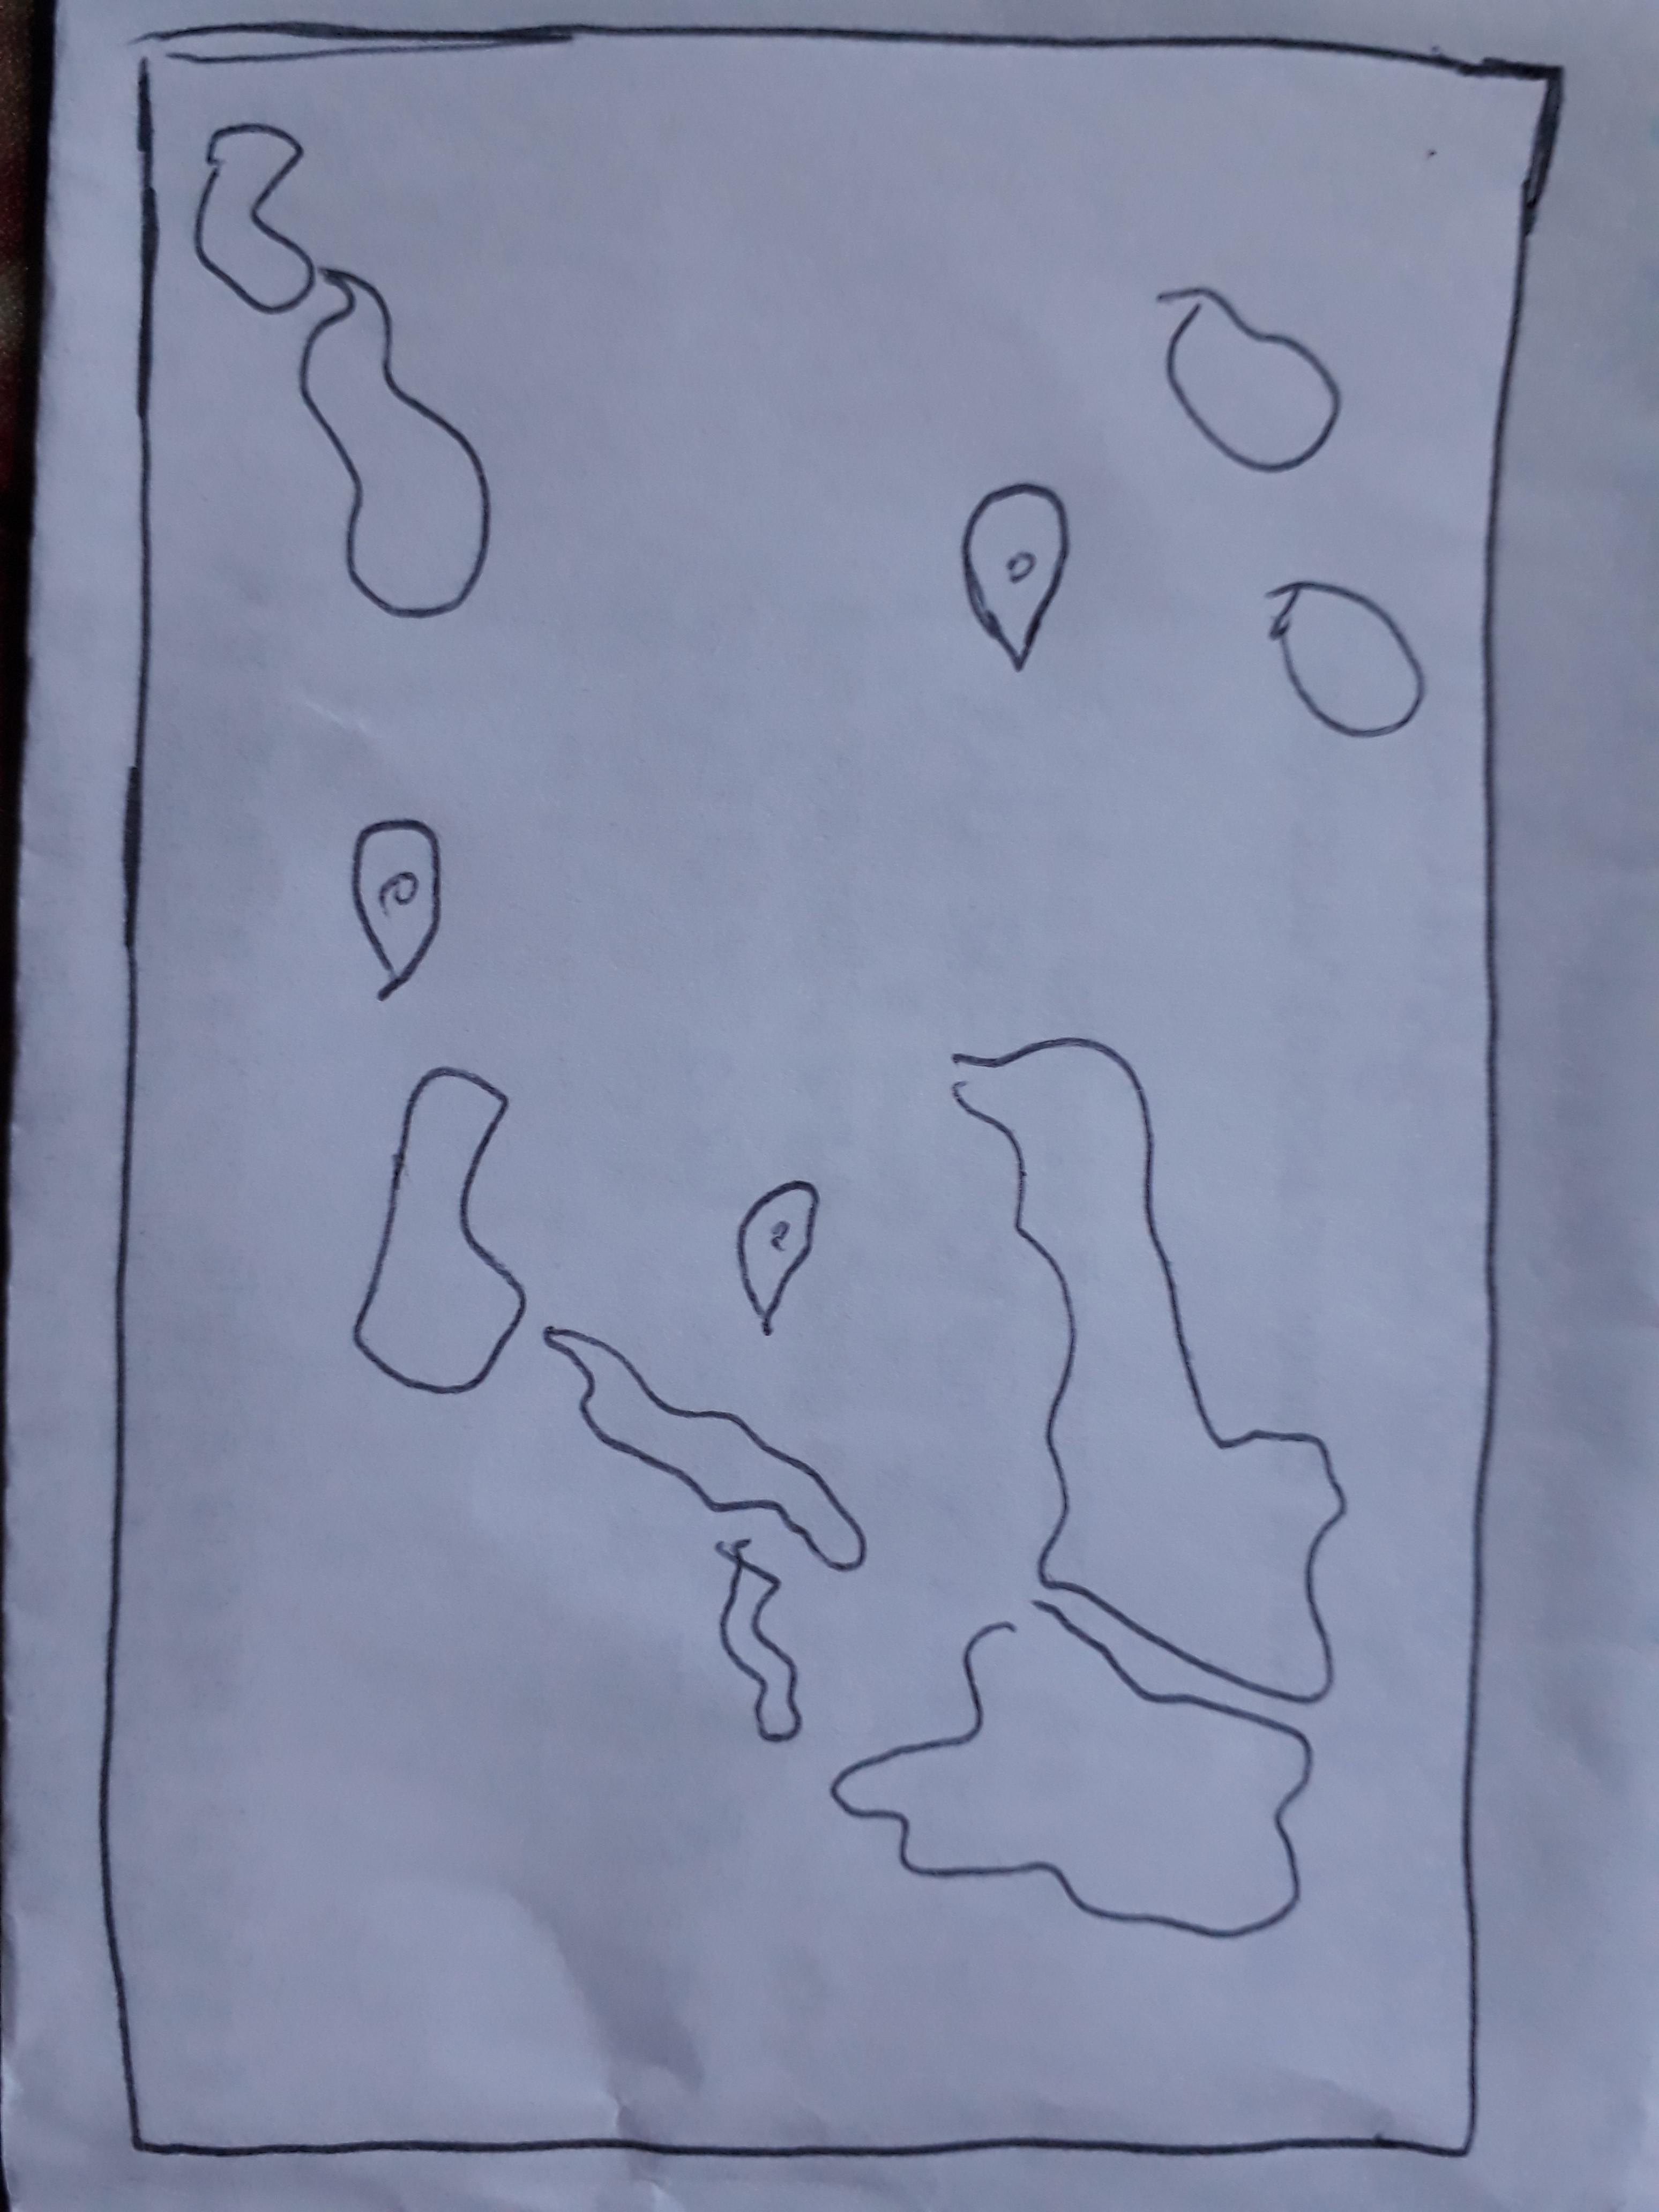Map: (99, 21, 1565, 2156)
Screen: (99, 21, 1568, 2158)
